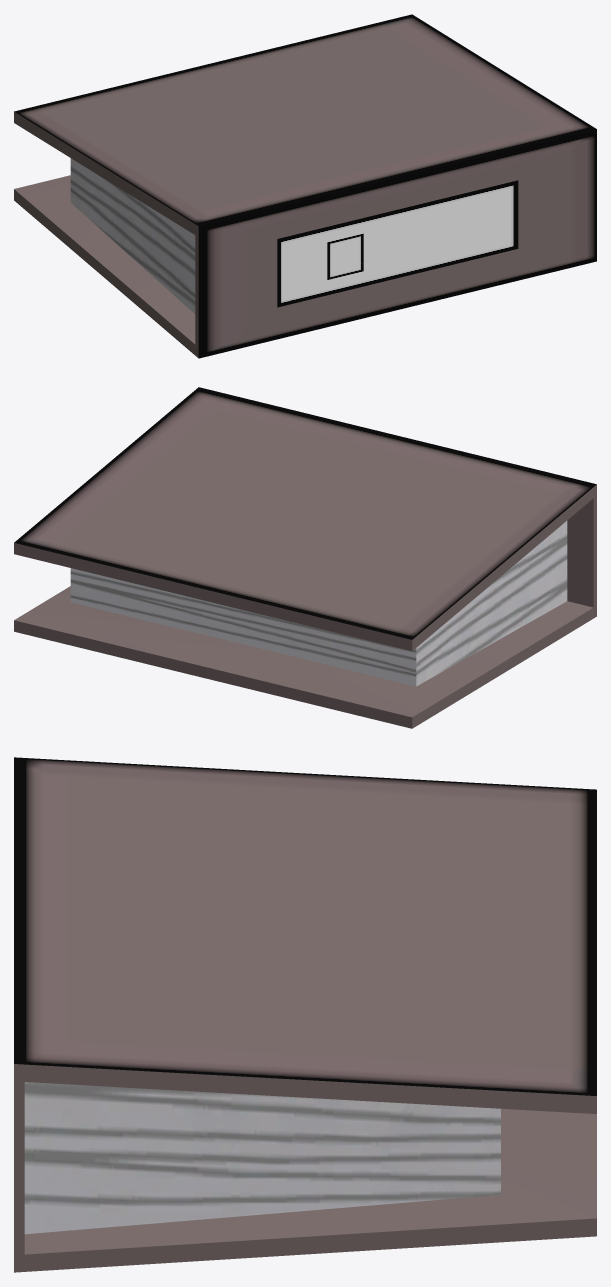
Rendered from Folder_Brown_Individual.fbx.
3 views of the same model, one above another, from view 1: azimuth 30°, elevation 25°; view 2: azimuth 150°, elevation 25°; view 3: azimuth 270°, elevation 25° (orthographic). The views are drawn at different scales.
Visible parts, largest first — view 1: Folder1; view 2: Folder1; view 3: Folder1.
Part boxes in pixels (bbox=[...]): Folder1: bbox=[14, 14, 596, 358]; Folder1: bbox=[14, 387, 596, 728]; Folder1: bbox=[14, 757, 596, 1272].
Bounding box in the file's own units: 37.28 × 11.83 × 29.96.
